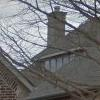Chimney: (38, 4, 72, 42)
